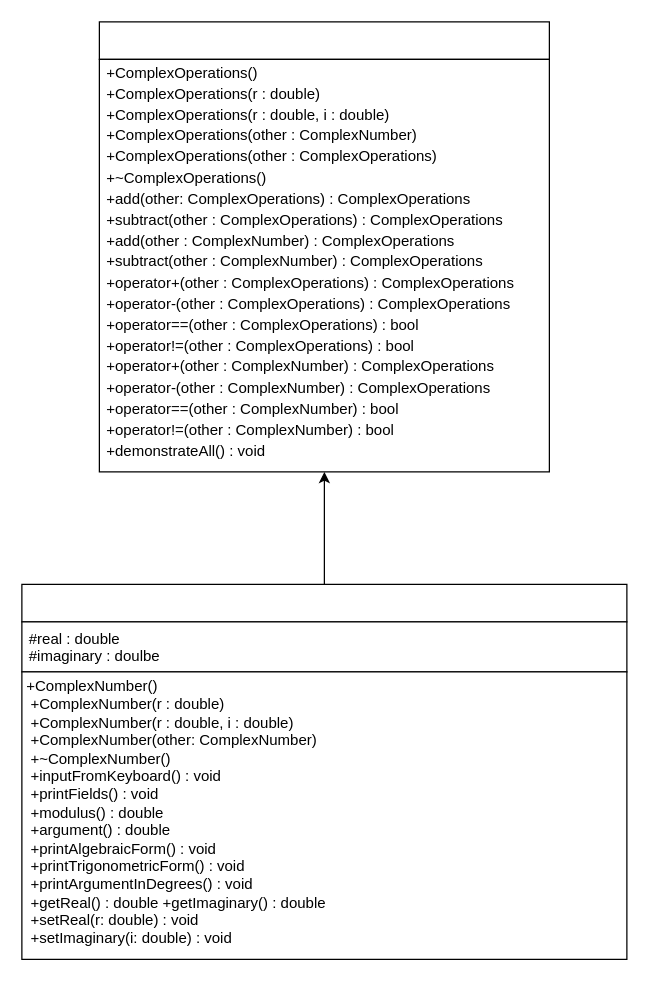
This 649x981 diagram has some shape labels left out. Here are the shapes that lost their labels. From the top down, the centre of each, then its label:
At point (323, 40): "ComplexOperations".
At point (324, 602): "ComplexNumber".
